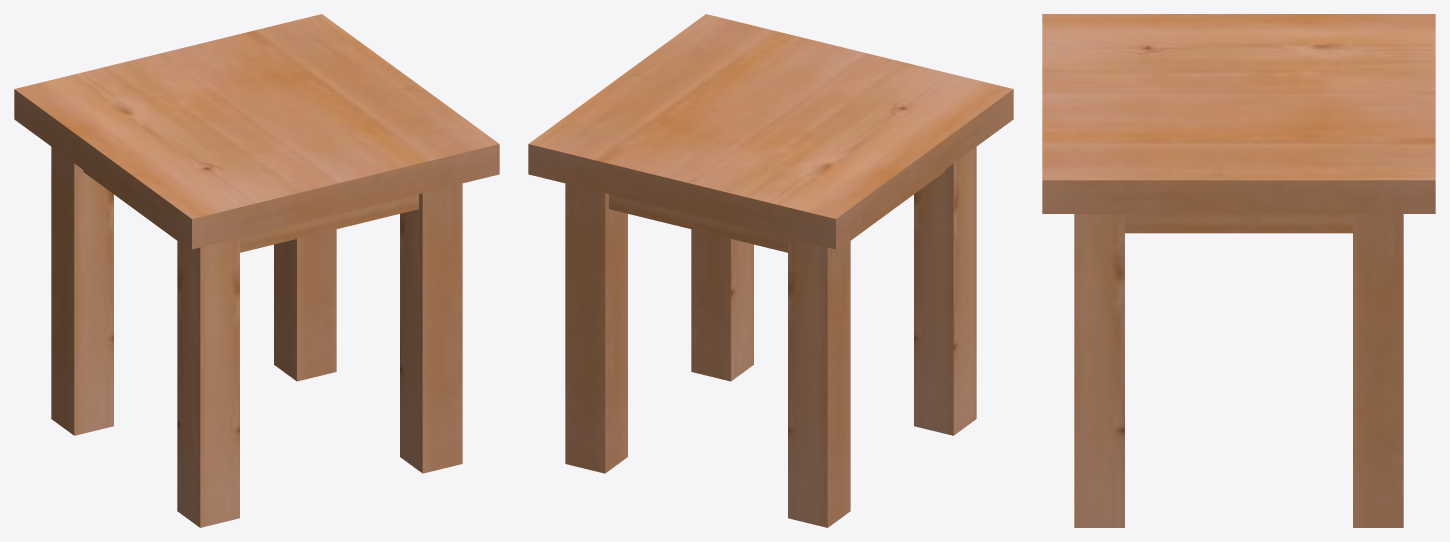
The model's file is Chair_21.glb.
3 views of the same model, side by side, from view 1: azimuth 30°, elevation 25°; view 2: azimuth 150°, elevation 25°; view 3: azimuth 270°, elevation 25° (orthographic). The views are drawn at different scales.
Visible parts, largest first — view 1: Chair_21; view 2: Chair_21; view 3: Chair_21.
Boxes of the visible parts, x1,y1,x2,y2 form: Chair_21: (14,14,499,527); Chair_21: (528,14,1013,527); Chair_21: (1042,14,1435,527).
Size of the model in its own units: 0.4326 by 0.4367 by 0.4326.
1 material, 1 textured.
